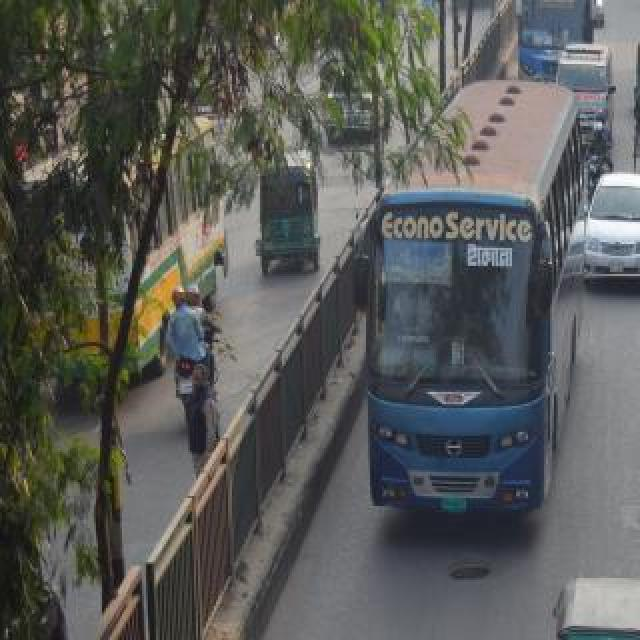bus: (356, 120, 570, 542), (11, 85, 225, 295), (500, 0, 602, 46)
car: (580, 166, 640, 284), (164, 626, 392, 640)
motorbike: (165, 290, 227, 456)
